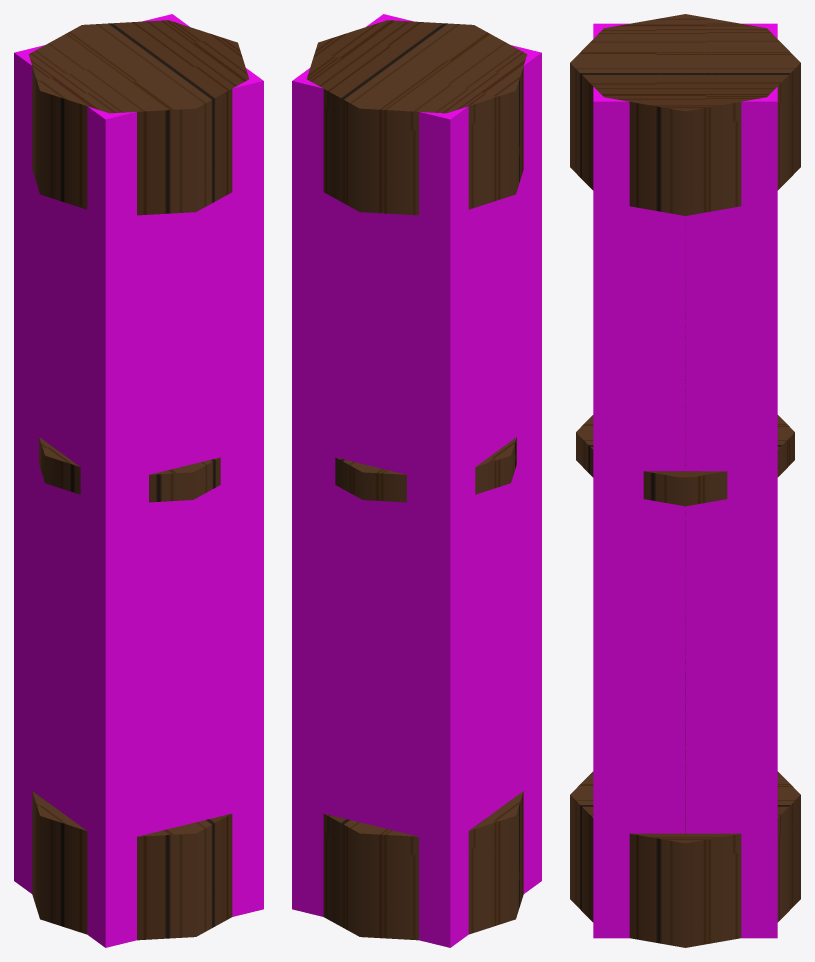
File: tiang.glb
3 views of the same model, side by side, from view 1: azimuth 30°, elevation 25°; view 2: azimuth 150°, elevation 25°; view 3: azimuth 270°, elevation 25° (orthographic).
Visible parts, largest first — view 1: col_tiang, tiang_body; view 2: col_tiang, tiang_body; view 3: col_tiang, tiang_body.
Boxes of the visible parts, left/top/right/bottom form: col_tiang: left=14, top=14, right=263, bottom=947; tiang_body: left=28, top=20, right=248, bottom=940; col_tiang: left=292, top=14, right=541, bottom=947; tiang_body: left=307, top=20, right=527, bottom=940; col_tiang: left=593, top=23, right=777, bottom=938; tiang_body: left=570, top=14, right=800, bottom=947.
Bounding box in the file's own units: 0.4 × 1.6 × 0.4.
2 materials, 1 textured.
